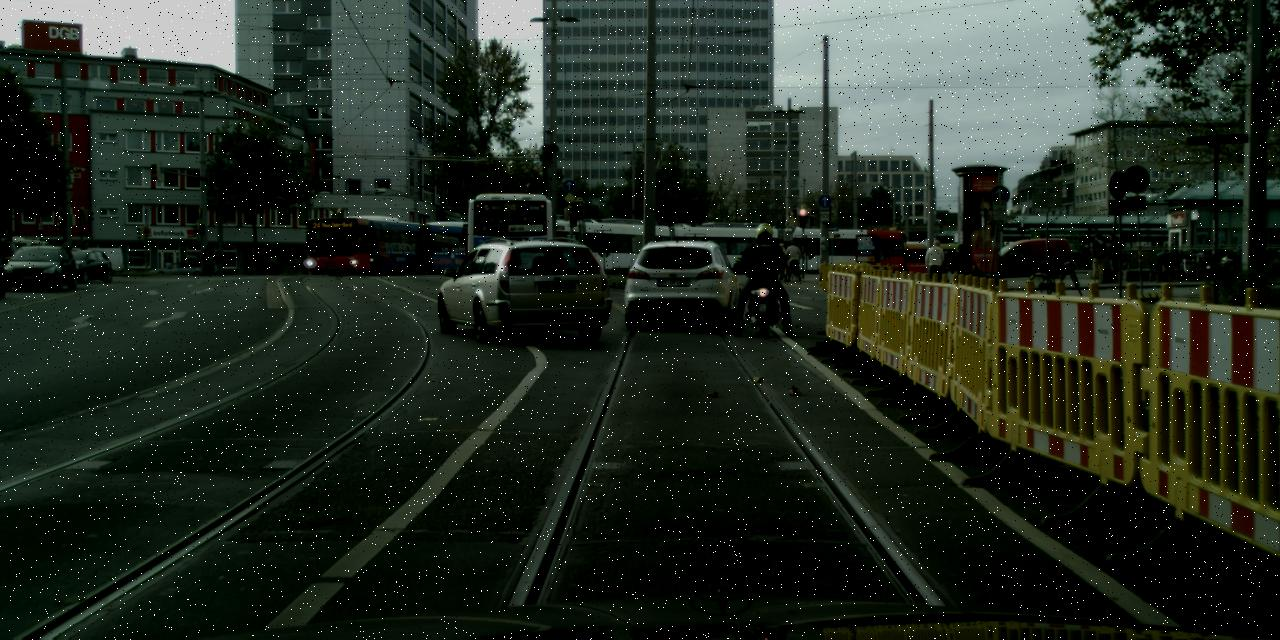ped: (742, 223, 788, 336), (924, 238, 946, 296), (950, 243, 971, 296), (1103, 232, 1123, 282), (1088, 232, 1108, 282), (784, 240, 800, 280), (774, 242, 789, 279), (59, 242, 74, 278), (78, 240, 92, 274), (970, 263, 982, 293)
